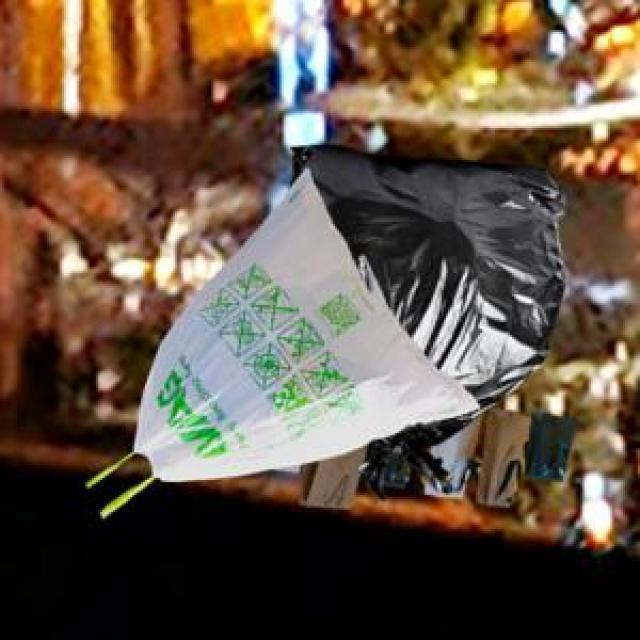miscellaneous trash: (286, 141, 561, 495)
paper: (269, 405, 572, 504)
